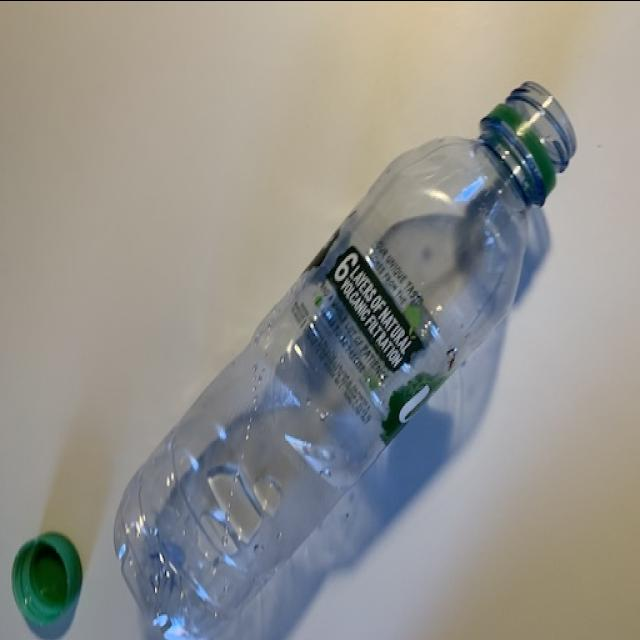PET: (113, 78, 575, 640)
